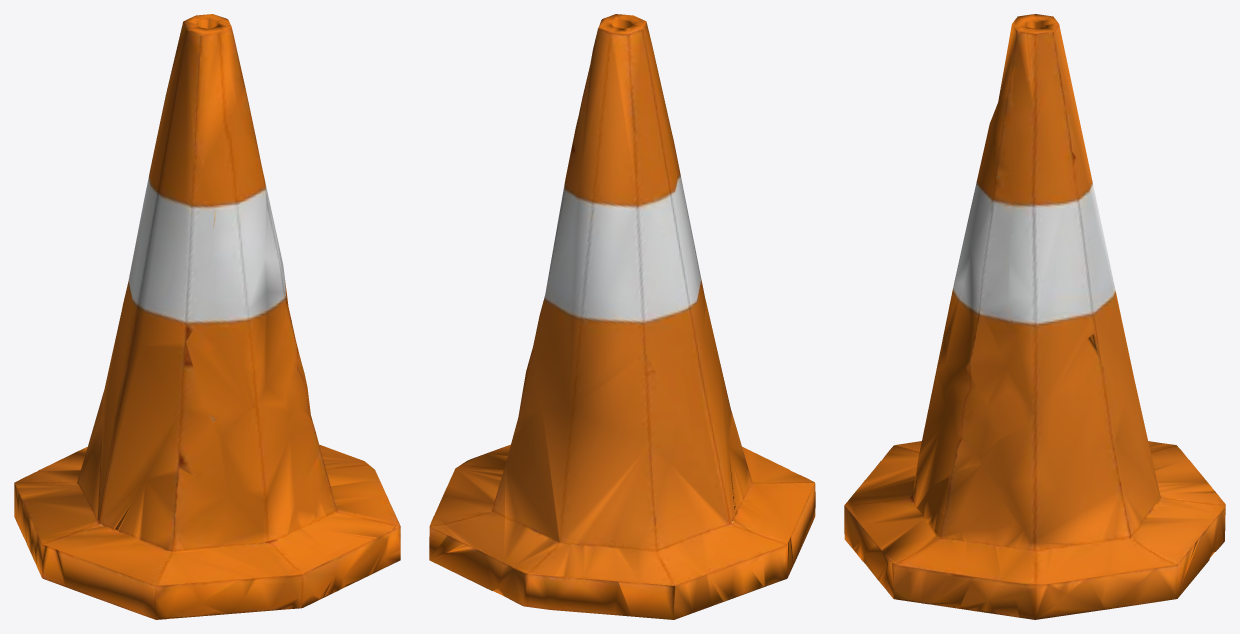
Rendered from prop-cone.glb.
The picture shows the model from 3 angles, left to right: view 1: azimuth 30°, elevation 25°; view 2: azimuth 150°, elevation 25°; view 3: azimuth 270°, elevation 25°; orthographic projection.
Parts seen in each view (by area): view 1: Mesh_0; view 2: Mesh_0; view 3: Mesh_0.
Part boxes in pixels (bbox=[...]): Mesh_0: bbox=[14, 14, 400, 619]; Mesh_0: bbox=[429, 14, 815, 619]; Mesh_0: bbox=[844, 14, 1225, 619].
Bounding box in the file's own units: 1.28 × 1.91 × 1.28.
Materials: 1 (1 with a texture image).
